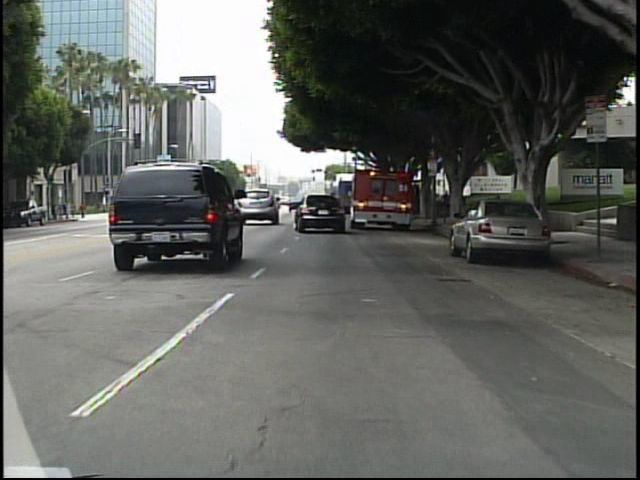person: (440, 187, 453, 221), (78, 199, 90, 222), (69, 198, 80, 222)
